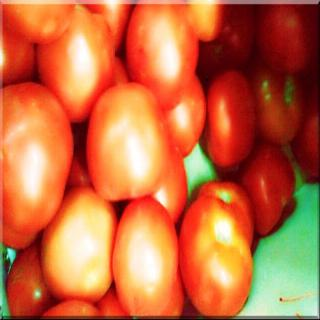tomato: (2, 81, 74, 233), (85, 79, 168, 196), (42, 182, 118, 304), (37, 4, 115, 120), (178, 195, 253, 313), (126, 4, 200, 111), (114, 202, 180, 316), (203, 66, 254, 167), (242, 145, 296, 238), (248, 62, 307, 144), (197, 1, 255, 77), (256, 3, 316, 74), (198, 181, 253, 245), (2, 0, 74, 41), (170, 76, 205, 160), (8, 248, 50, 316), (154, 157, 189, 222), (297, 92, 319, 178)
